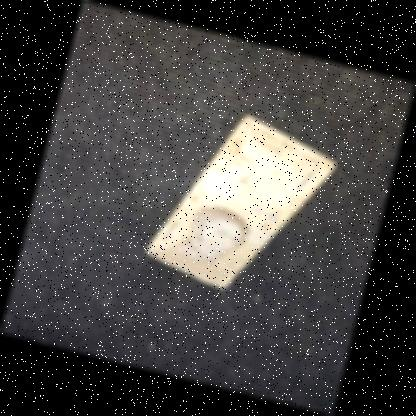five-front-vef: (145, 114, 337, 290)
